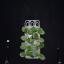leaf: (38, 54, 46, 60), (32, 32, 38, 40), (38, 43, 45, 49), (27, 38, 34, 44), (38, 29, 45, 35), (32, 50, 38, 56), (27, 28, 33, 34), (26, 51, 33, 56), (31, 27, 38, 32), (34, 32, 38, 40), (20, 52, 26, 57), (22, 42, 27, 48), (32, 44, 37, 50), (21, 36, 27, 41), (20, 45, 25, 50), (38, 38, 44, 42), (27, 38, 32, 42), (22, 27, 26, 32), (38, 28, 43, 32), (24, 28, 27, 34), (27, 46, 31, 50), (26, 51, 30, 55), (36, 46, 39, 49)
